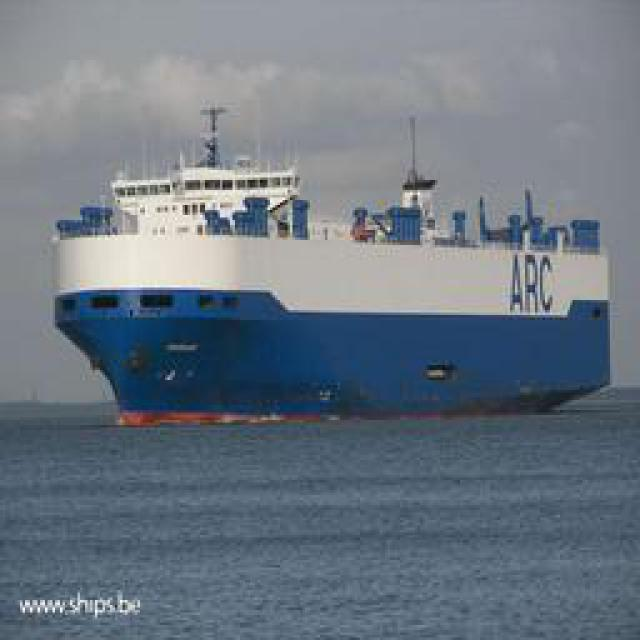Ship: (49, 104, 614, 424)
